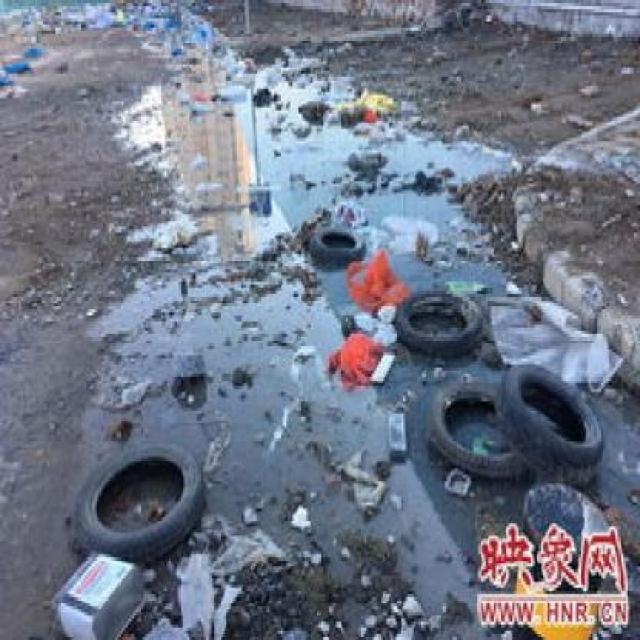garbage: (0, 0, 634, 502), (120, 517, 466, 624)
